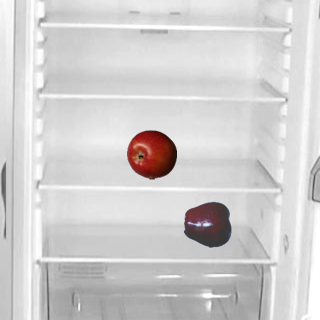Apple Braeburn: (126, 129, 176, 179)
Apple Red Delicious: (183, 199, 233, 249)
